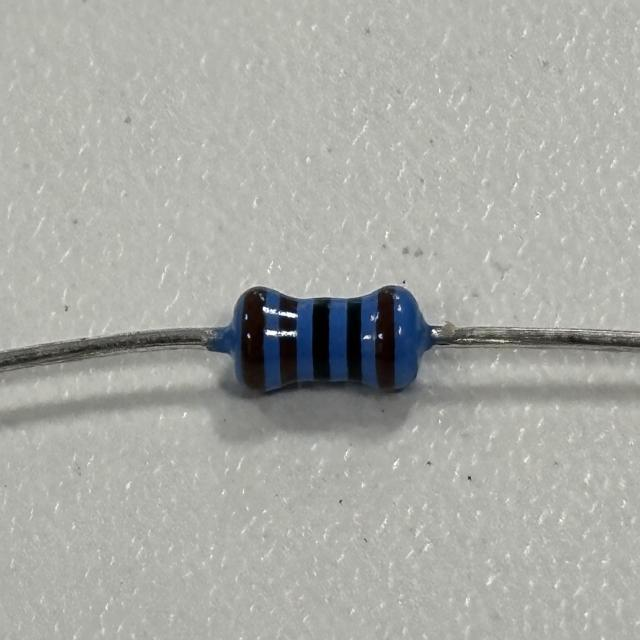resistor: (236, 282, 422, 393)
